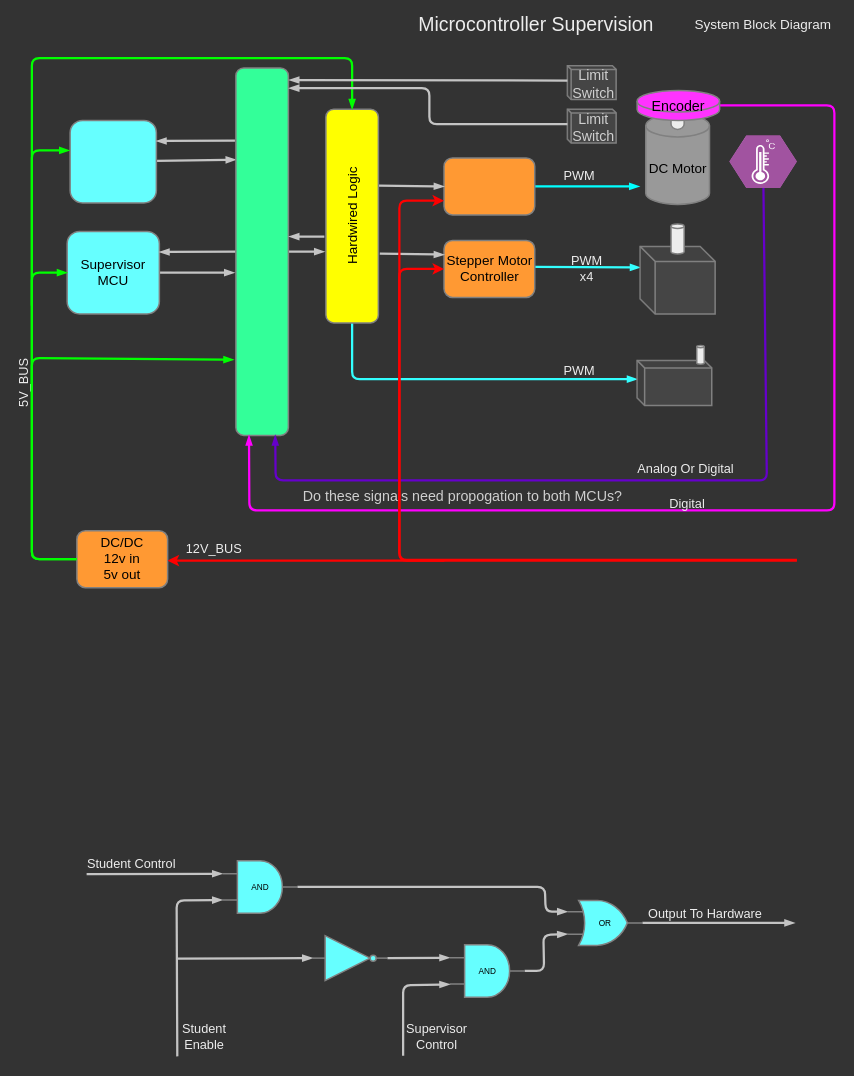
Some shapes in this 854 by 1076 pixel diagram are drawn without their labels. The shapes that lost their labels are listed below. From the top down, each one's centre as x and y in pixels, then its label:
At [113,161]: "Student MCU".
At [489,186]: "DC Motor Controller".
At [262,251]: "Middle Man Microcontroller or FPGA (optional?)".
At [677,279]: "Stepper Motor".
At [674,382]: "Servo".
At [349,957]: "NOT".
